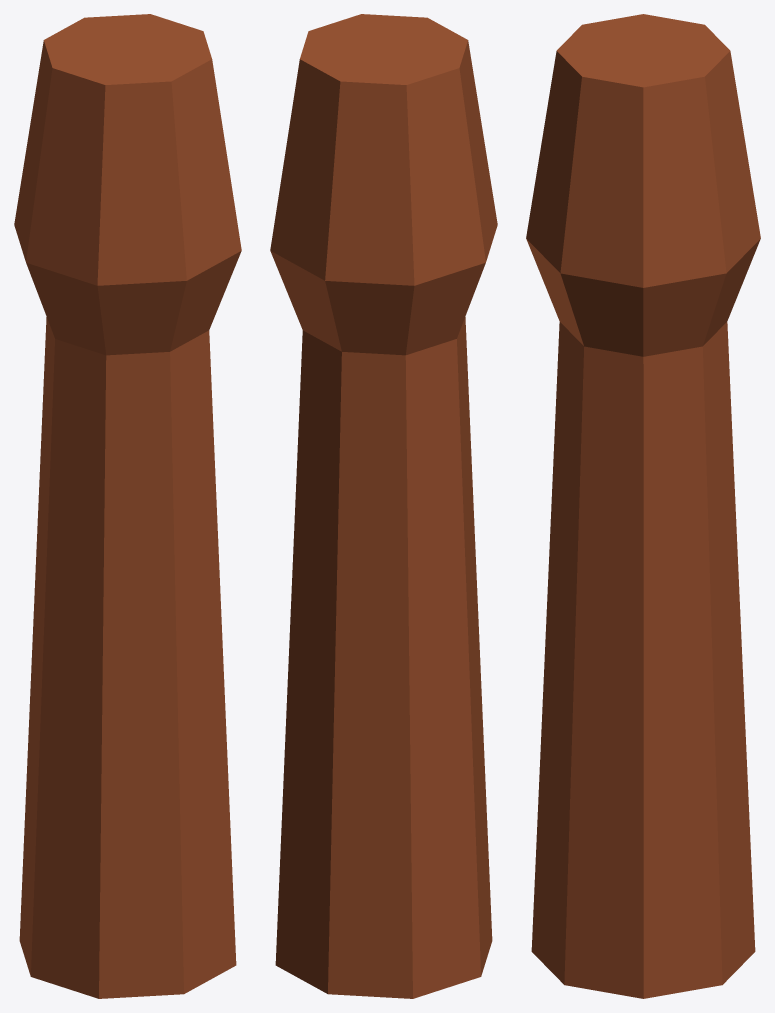
Rendered from Vegetation_Tree_Trunk_Palm_Simple_01.FBX.
3 renders of one model, left to right at view 1: azimuth 30°, elevation 25°; view 2: azimuth 150°, elevation 25°; view 3: azimuth 270°, elevation 25°, orthographic.
Visible parts, largest first — view 1: Vegetation_Tree_Trunk_Palm_Simple_01; view 2: Vegetation_Tree_Trunk_Palm_Simple_01; view 3: Vegetation_Tree_Trunk_Palm_Simple_01.
Part boxes in pixels (bbox=[...]): Vegetation_Tree_Trunk_Palm_Simple_01: bbox=[14, 14, 241, 998]; Vegetation_Tree_Trunk_Palm_Simple_01: bbox=[270, 14, 497, 998]; Vegetation_Tree_Trunk_Palm_Simple_01: bbox=[526, 14, 760, 998].
Bounding box in the file's own units: 450 × 1904 × 450.
